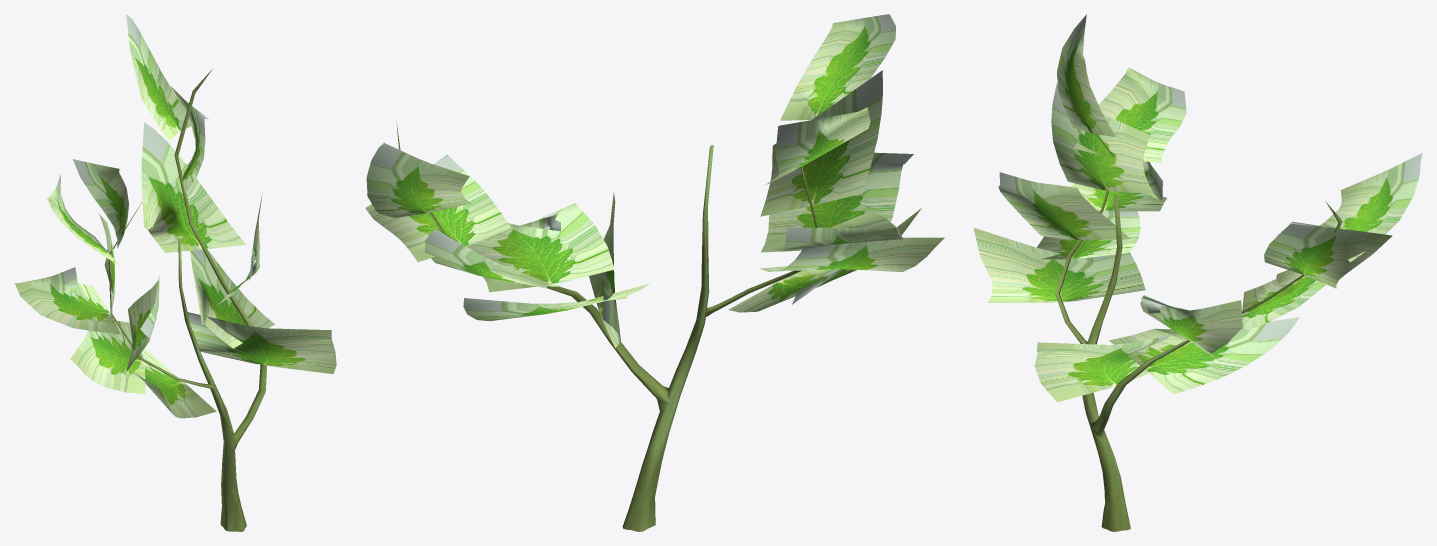
File: RosiiStage1.fbx
The picture shows the model from 3 angles, left to right: view 1: azimuth 30°, elevation 25°; view 2: azimuth 150°, elevation 25°; view 3: azimuth 270°, elevation 25°; orthographic projection. The views are drawn at different scales.
Visible parts, largest first — view 1: SM_Plant_21; view 2: SM_Plant_21; view 3: SM_Plant_21.
Boxes of the visible parts, x1=… form: SM_Plant_21: x1=14, y1=14, x2=336, y2=531; SM_Plant_21: x1=365, y1=14, x2=944, y2=531; SM_Plant_21: x1=973, y1=14, x2=1422, y2=531.
Bounding box in the file's own units: 16.49 × 21.32 × 22.29.
Materials: 2 (2 with a texture image).
